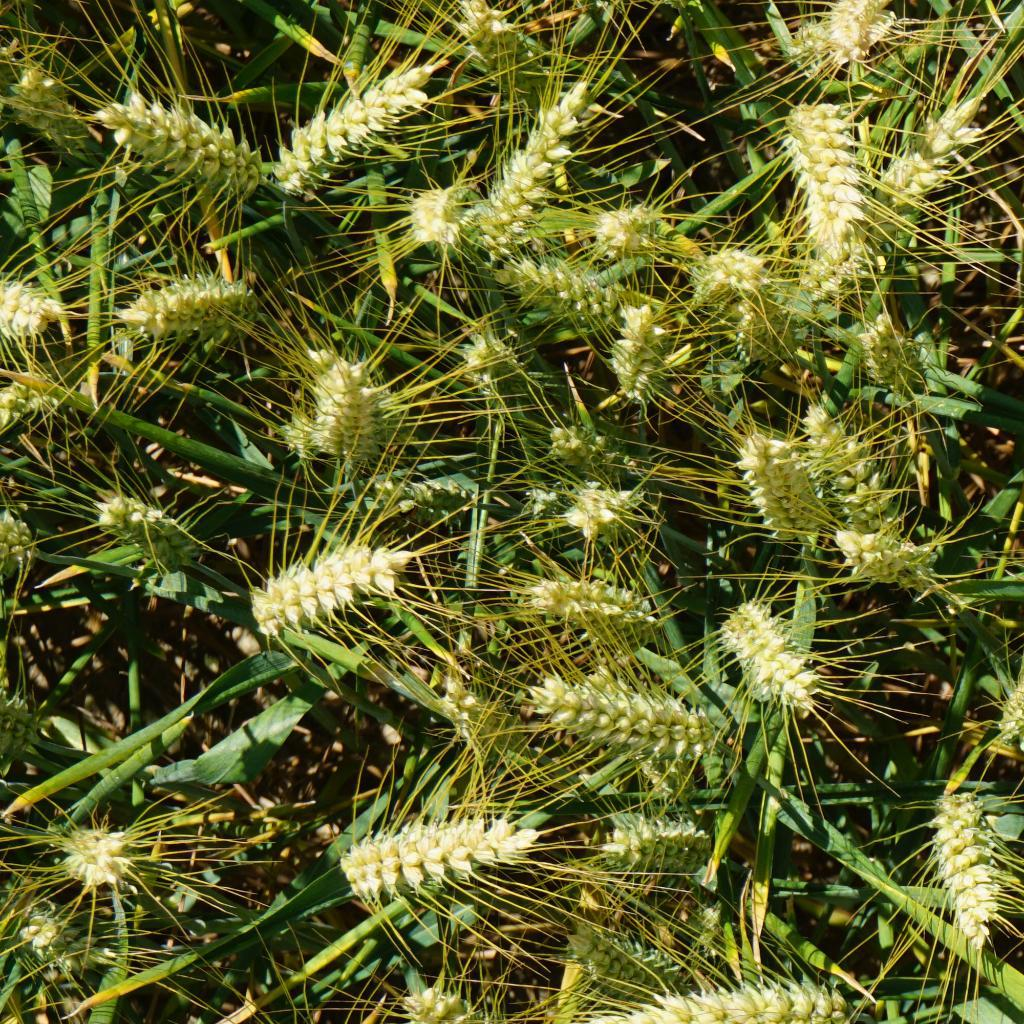0-0: (260, 56, 441, 201), (469, 65, 614, 244), (84, 83, 274, 206), (855, 86, 988, 253), (335, 810, 547, 909), (250, 530, 428, 640), (707, 586, 825, 727), (775, 92, 866, 248), (928, 789, 1012, 954), (424, 659, 539, 773), (796, 390, 892, 526), (123, 268, 280, 345), (543, 675, 695, 753), (558, 912, 705, 991), (828, 521, 957, 605), (515, 561, 655, 638), (4, 890, 116, 979), (733, 431, 822, 540), (98, 487, 206, 576), (436, 0, 527, 98), (853, 303, 934, 410), (619, 724, 709, 819), (7, 59, 94, 151), (375, 462, 499, 526), (405, 176, 494, 260), (604, 802, 702, 877), (44, 815, 142, 890), (398, 972, 533, 1024), (515, 252, 607, 324), (0, 352, 88, 425), (600, 301, 669, 389), (336, 362, 389, 475), (809, 0, 903, 60), (462, 327, 527, 409), (799, 240, 881, 305), (0, 680, 60, 765), (297, 352, 345, 452), (566, 482, 638, 548), (719, 288, 784, 361), (687, 237, 766, 294), (510, 472, 580, 536), (0, 281, 71, 341), (592, 193, 662, 251), (546, 419, 618, 475), (0, 504, 36, 587), (790, 15, 836, 73), (277, 401, 320, 463), (1002, 658, 1024, 758)
